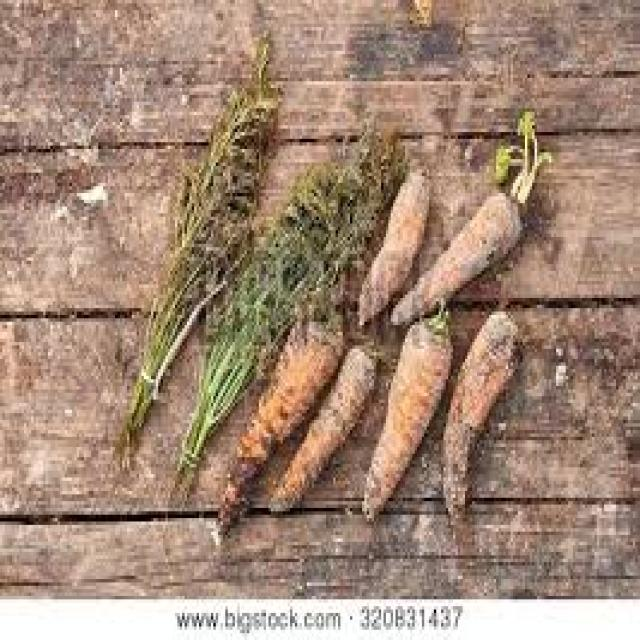Stale_Carrot: (190, 302, 366, 591), (408, 309, 538, 561)
